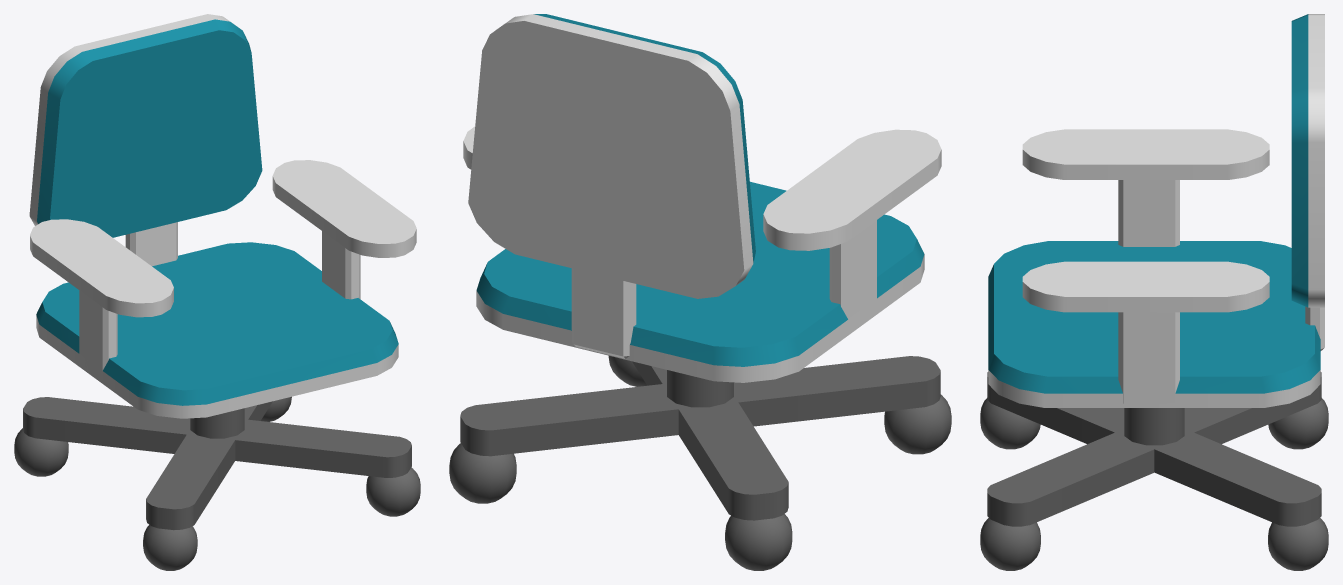
File: RollingChairGeo.fbx
The picture shows the model from 3 angles, left to right: view 1: azimuth 30°, elevation 25°; view 2: azimuth 150°, elevation 25°; view 3: azimuth 270°, elevation 25°; orthographic projection. The views are drawn at different scales.
Visible parts, largest first — view 1: RollingChairGeo; view 2: RollingChairGeo; view 3: RollingChairGeo.
Part boxes in pixels (x1,y1,x2,y2): RollingChairGeo: (14, 14, 420, 570); RollingChairGeo: (449, 14, 951, 570); RollingChairGeo: (980, 14, 1328, 570).
Size of the model in its own units: 203 by 258 by 179.
